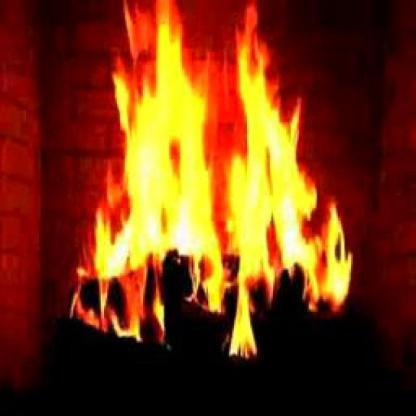fire: (72, 0, 352, 363)
